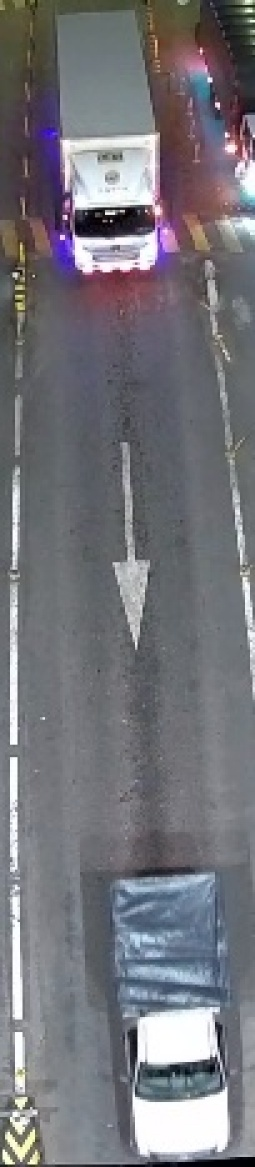car: (95, 858, 248, 1160)
truck: (42, 7, 171, 283)
